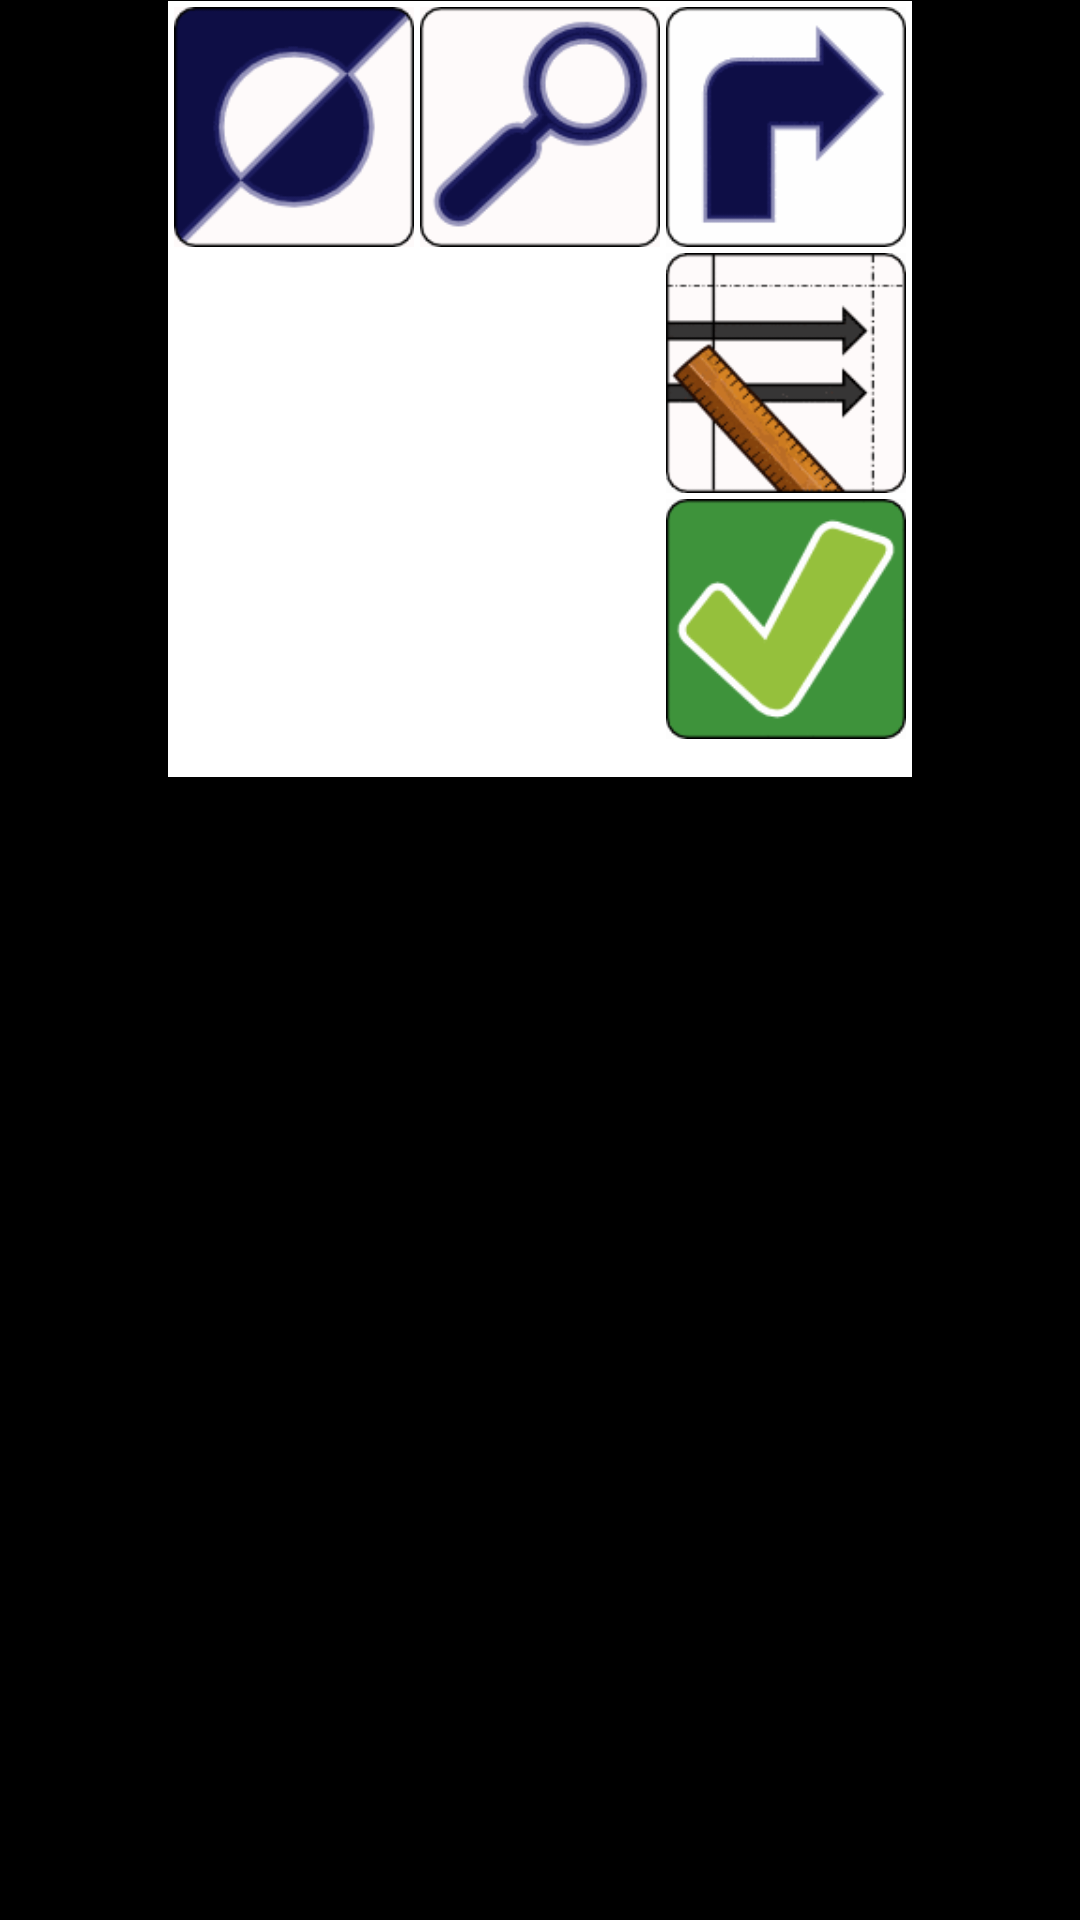

Icon click points for this 1080x1920 phone screenshot, format [x,y]:
iconalign: [786,373]
iconneg: [294,127]
iconturn: [786,127]
iconvalidon: [786,619]
iconzoom: [540,127]
